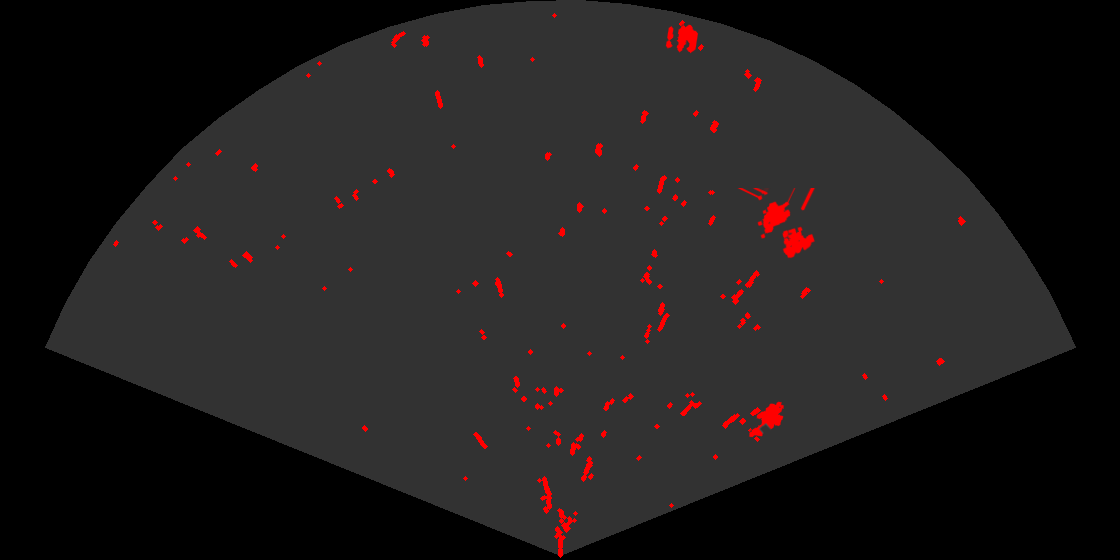AUV: (748, 400, 785, 439)
ball: (664, 23, 700, 55)
cage: (737, 188, 817, 260)
